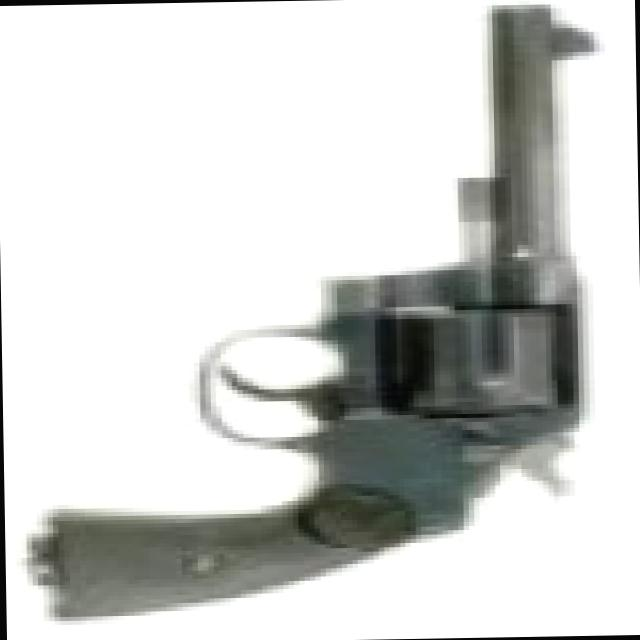handgun: (53, 0, 625, 621)
